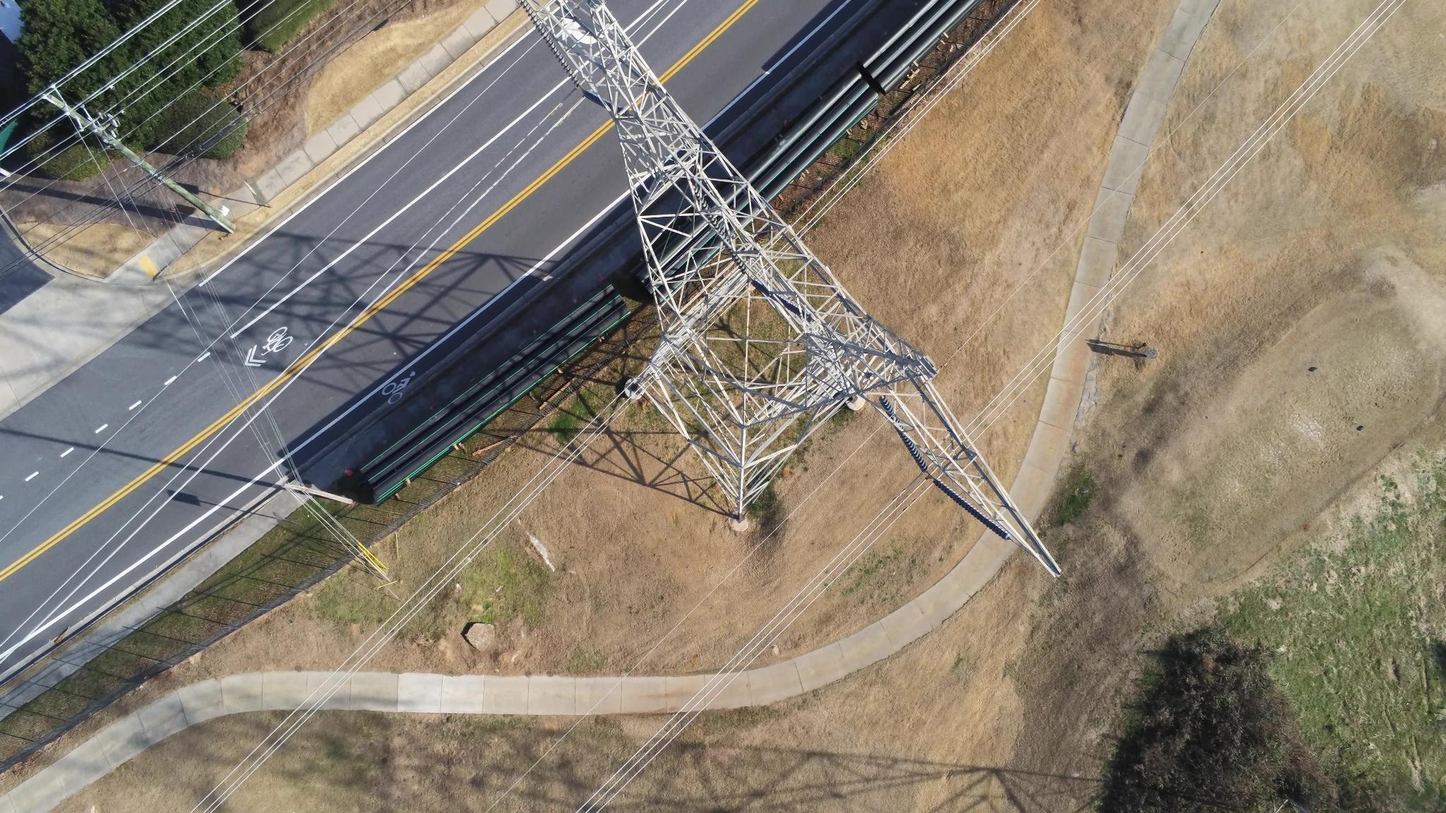tower: (532, 0, 1063, 577)
